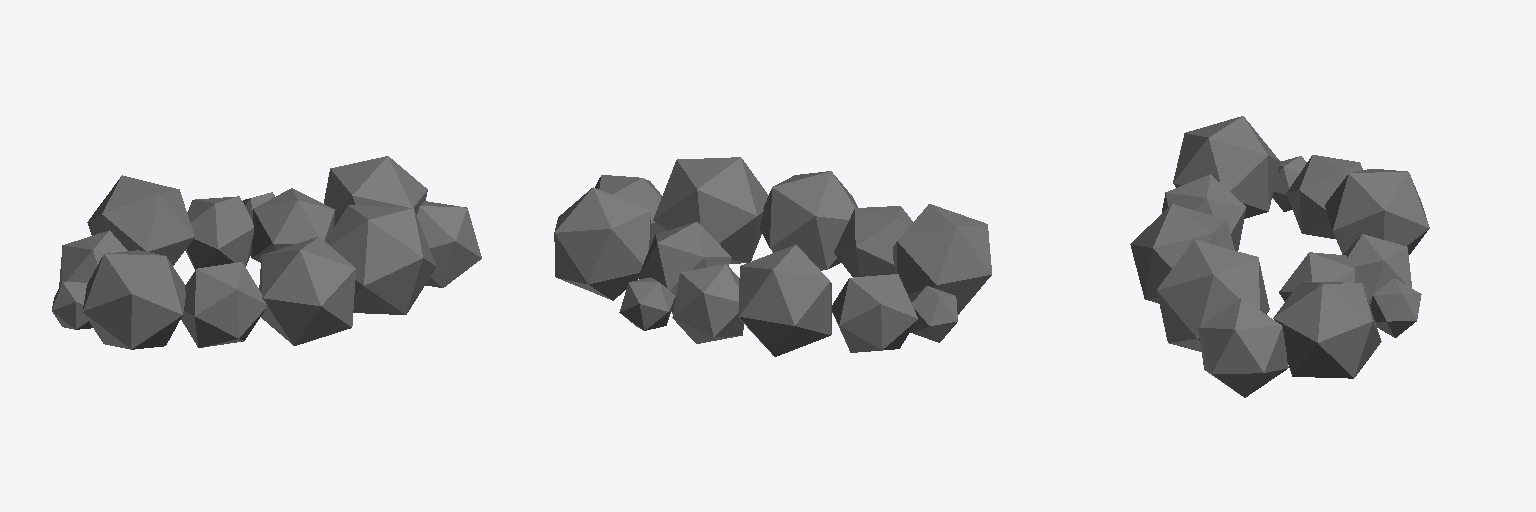
File: Rocks.obj
3 views of the same model, side by side, from view 1: azimuth 30°, elevation 25°; view 2: azimuth 150°, elevation 25°; view 3: azimuth 270°, elevation 25° (orthographic).
Visible parts, largest first — view 1: Rocks; view 2: Rocks; view 3: Rocks.
Boxes of the visible parts, x1,y1,x2,y2 form: Rocks: [52, 156, 481, 349]; Rocks: [554, 157, 991, 356]; Rocks: [1130, 116, 1429, 397].
Bounding box in the file's own units: 4.52 × 1.24 × 2.95.